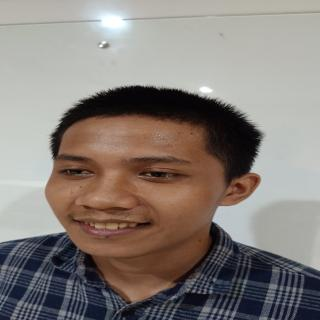Senang: (40, 111, 236, 275)
